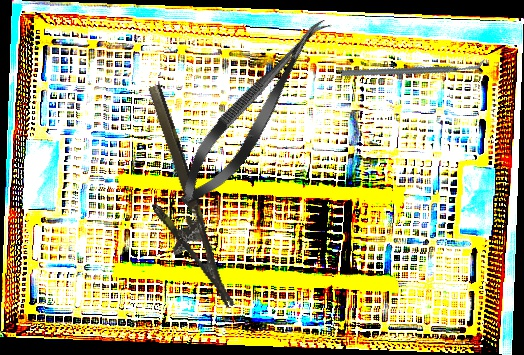Chopper: (340, 13, 485, 123)
Micro Scissor: (165, 4, 342, 218)
Needle Holder: (117, 83, 235, 320)
